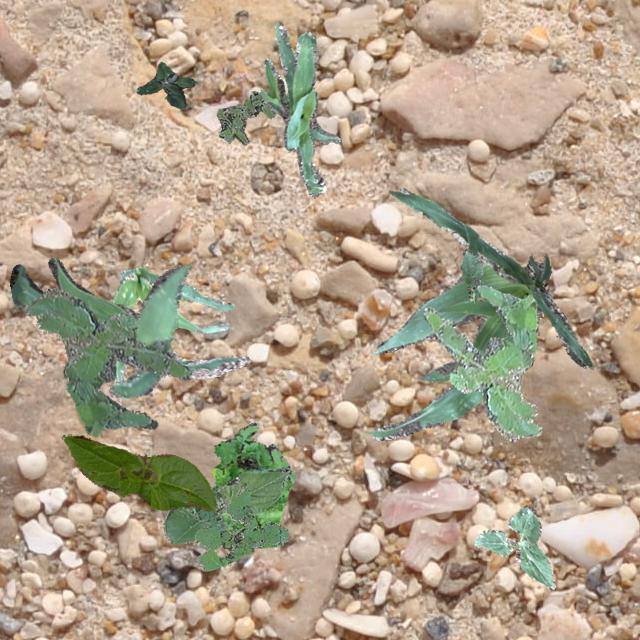crop: (368, 186, 590, 438), (8, 256, 250, 396), (258, 21, 339, 198), (112, 266, 234, 382), (62, 434, 214, 510), (162, 467, 288, 542), (474, 504, 554, 588), (460, 248, 486, 302)
weed: (23, 286, 190, 436), (422, 278, 542, 440), (212, 422, 294, 534), (194, 482, 288, 570), (216, 90, 288, 144), (136, 61, 194, 108)
